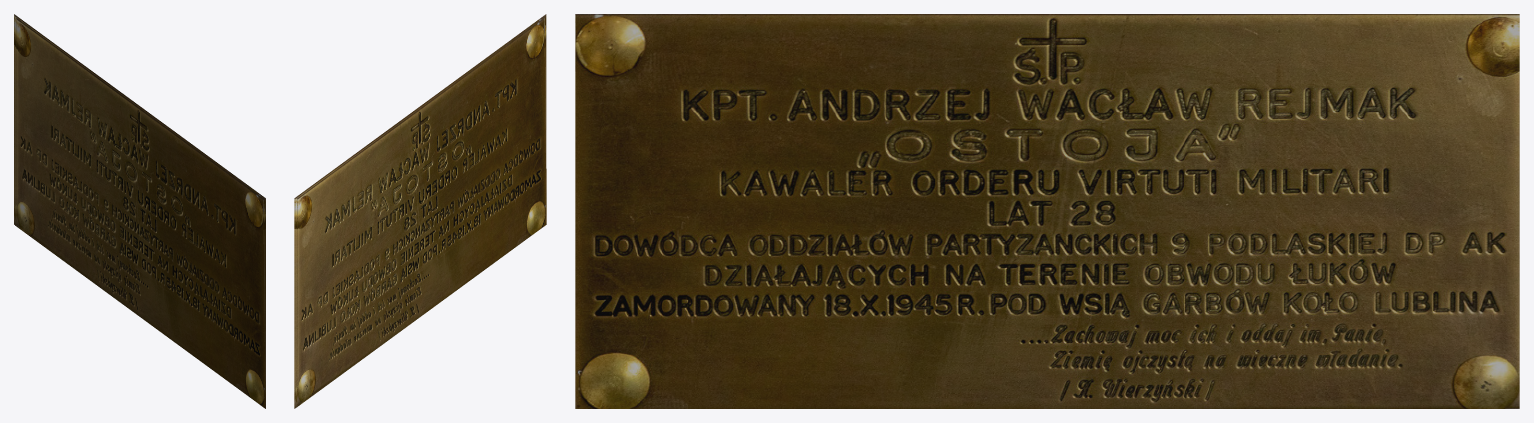
Rendered from 105. Ś.P. kpt. ANDRZEJ  WACŁAW  REJMAK.glb.
3 views of the same model, side by side, from view 1: azimuth 30°, elevation 25°; view 2: azimuth 150°, elevation 25°; view 3: azimuth 270°, elevation 25° (orthographic). The views are drawn at different scales.
Visible parts, largest first — view 1: Plane; view 2: Plane; view 3: Plane.
Boxes of the visible parts, box(x1,y1,x2,y2) form: Plane: box(14, 14, 265, 408); Plane: box(294, 14, 546, 408); Plane: box(575, 14, 1519, 408).
Size of the model in its own units: 0.0102 by 6 by 13.
1 material, 1 textured.
